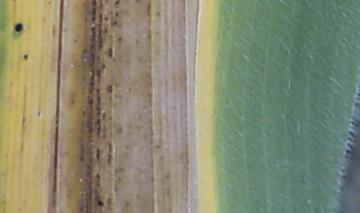tarspot: (13, 23, 24, 33), (95, 69, 102, 82), (95, 198, 105, 207), (107, 46, 113, 59), (95, 126, 102, 137), (89, 53, 96, 64), (95, 147, 101, 159), (107, 142, 113, 153), (105, 84, 113, 92), (106, 154, 112, 164), (111, 19, 118, 27), (91, 6, 98, 14), (113, 10, 120, 18), (86, 97, 93, 105), (86, 127, 93, 135), (94, 172, 100, 181), (102, 15, 109, 22), (113, 1, 121, 7), (100, 62, 106, 70), (95, 117, 101, 125), (22, 53, 28, 60), (36, 110, 42, 117), (90, 15, 96, 22), (101, 112, 107, 119), (81, 48, 88, 54), (90, 1, 98, 6), (117, 36, 123, 42), (165, 173, 171, 179), (90, 26, 96, 32), (78, 156, 84, 162), (103, 27, 108, 34), (95, 88, 101, 93), (155, 144, 160, 149)
